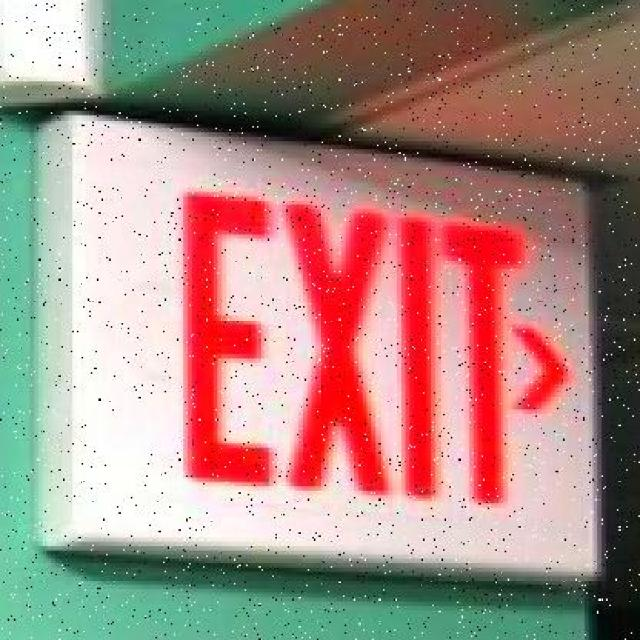emergency_exit: (32, 110, 605, 580), (178, 186, 571, 507)
